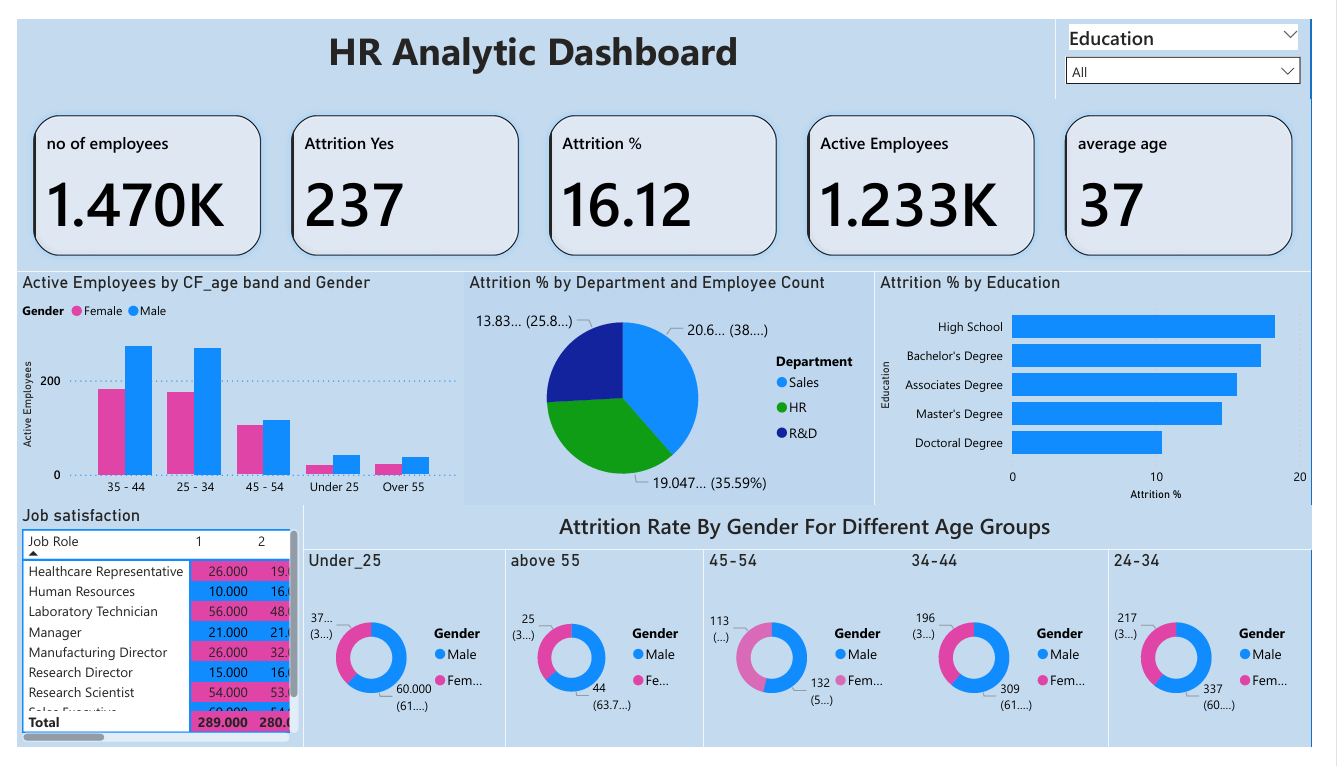

The dashboard page shown, as its layout file describes it:
{"tool":"powerbi","page":{"name":"Page 1","canvas":[1280,720],"ordinal":0},"visuals":[{"type":"cardVisual","fields":{"Data":["HR data.no of employees","HR data.Attrition Yes","HR data.Attrition %","HR data.Active Employees","HR data.average age"]},"box":[0,78.5,1278.5,171.8],"z":0},{"type":"clusteredColumnChart","fields":{"Series":["HR data.Gender"],"Category":["HR data.CF_age band"],"Y":["HR data.Active Employees"]},"box":[0,250.3,441.7,230.7],"z":1000},{"type":"pieChart","fields":{"Category":["HR data.Department"],"Y":["HR data.Attrition %"],"Series":["HR data.Employee Count"]},"box":[441.7,250.3,406.1,230.7],"z":2000},{"type":"clusteredBarChart","fields":{"Y":["HR data.Attrition %"],"Category":["HR data.Education"]},"box":[847.9,250.3,431.9,230.7],"z":3000},{"type":"pivotTable","title":"Job satisfaction","fields":{"Rows":["HR data.Job Role"],"Columns":["HR data.Job Satisfaction"],"Values":["HR data.no of employees"]},"box":[0,481,283.4,239.3],"z":4000},{"type":"textbox","box":[0,0,1027,78.5],"z":5000},{"type":"donutChart","title":"Under_25","fields":{"Y":["HR data.no of employees"],"Category":["HR data.Gender"],"Series":["HR data.CF_age band"]},"box":[283.4,525.2,200,195.1],"z":6000},{"type":"donutChart","title":"above 55","fields":{"Y":["CountNonNull(HR data.emp no)"],"Category":["HR data.Gender"],"Series":["HR data.CF_age band"]},"box":[483.4,525.2,195.1,195.1],"z":7000},{"type":"donutChart","title":"45-54","fields":{"Y":["CountNonNull(HR data.emp no)"],"Category":["HR data.Gender"],"Series":["HR data.CF_age band"]},"box":[678.5,525.2,200,195.1],"z":8000},{"type":"donutChart","title":"34-44","fields":{"Y":["CountNonNull(HR data.emp no)"],"Category":["HR data.Gender"],"Series":["HR data.CF_age band"]},"box":[878.5,525.2,200,195.1],"z":9000},{"type":"donutChart","title":"24-34","fields":{"Y":["CountNonNull(HR data.emp no)"],"Category":["HR data.Gender"],"Series":["HR data.CF_age band"]},"box":[1078.5,525.2,200,195.1],"z":10000},{"type":"textbox","box":[283.4,481,996.3,44.2],"z":11000},{"type":"slicer","fields":{"Values":["HR data.Education"]},"box":[1027,0,251.5,78.5],"z":12000}]}

Visuals, with their boxes in screenshot pixels (x1, y1, x2, y2), scaled from the page's 1280x720 canvas onto the 1337x766 screenshot:
cardVisual - HR data.no of employees x HR data.Attrition Yes: Rect(0, 84, 1335, 266)
clusteredColumnChart - HR data.Gender x HR data.CF_age band: Rect(0, 266, 461, 512)
pieChart - HR data.Department x HR data.Attrition %: Rect(461, 266, 886, 512)
clusteredBarChart - HR data.Attrition % x HR data.Education: Rect(886, 266, 1336, 512)
"Job satisfaction" pivotTable: Rect(0, 512, 296, 765)
textbox: Rect(0, 0, 1073, 84)
"Under_25" donutChart: Rect(296, 559, 505, 765)
"above 55" donutChart: Rect(505, 559, 709, 765)
"45-54" donutChart: Rect(709, 559, 918, 765)
"34-44" donutChart: Rect(918, 559, 1127, 765)
"24-34" donutChart: Rect(1127, 559, 1335, 765)
textbox: Rect(296, 512, 1336, 559)
slicer - HR data.Education: Rect(1073, 0, 1335, 84)
